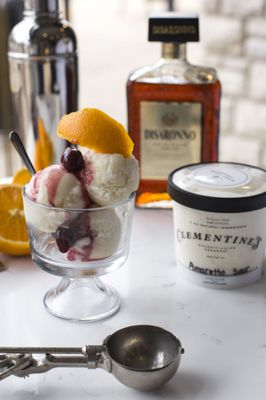pizza: (22, 181, 136, 323), (167, 160, 266, 290), (0, 183, 32, 256)
sushi: (104, 324, 183, 392)
